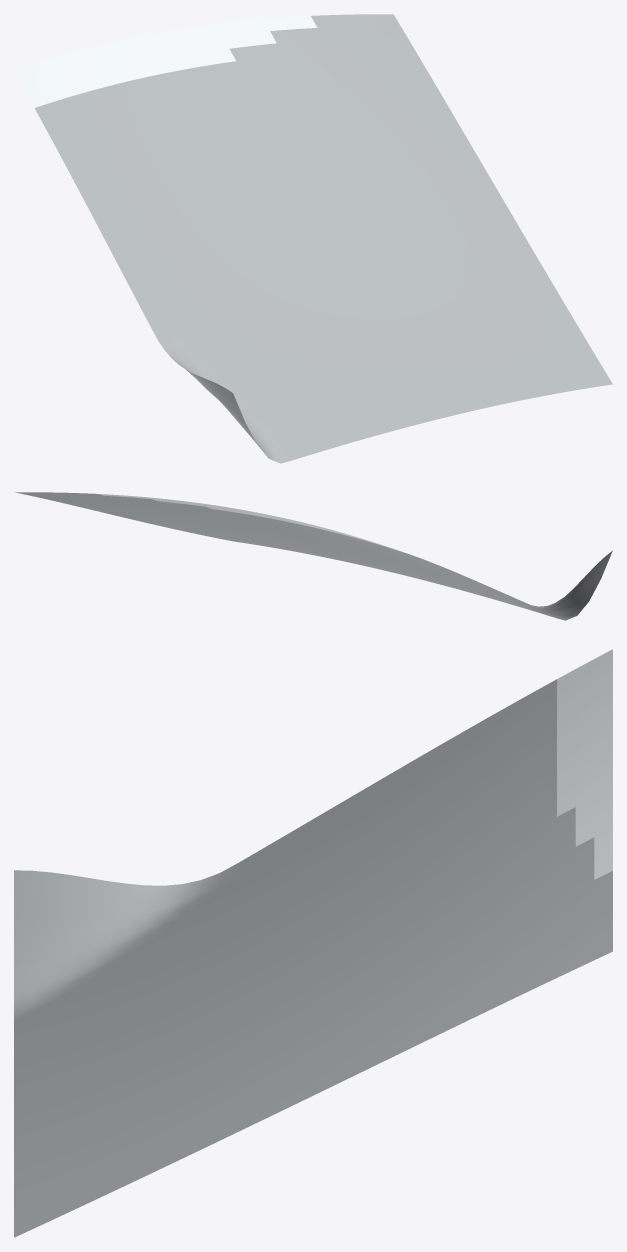
Rendered from alpine-14-11.glb.
3 views of the same model, one above another, from view 1: azimuth 30°, elevation 25°; view 2: azimuth 150°, elevation 25°; view 3: azimuth 270°, elevation 25° (orthographic). The views are drawn at different scales.
Visible parts, largest first — view 1: alpine-14-11; view 2: alpine-14-11; view 3: alpine-14-11.
Boxes of the visible parts, x1=… form: alpine-14-11: x1=14, y1=14, x2=612, y2=463; alpine-14-11: x1=15, y1=492, x2=612, y2=620; alpine-14-11: x1=14, y1=649, x2=612, y2=1237.
Bounding box in the file's own units: 256 × 161 × 256.
Materials: 2 (2 with a texture image).
